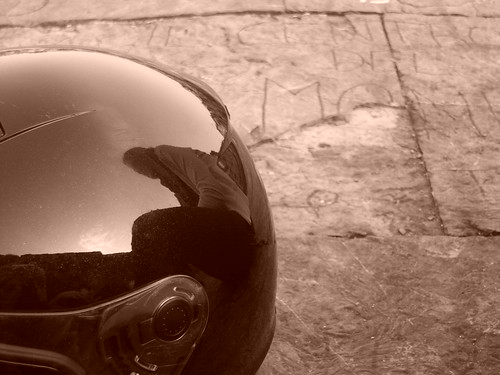helmet: (0, 31, 279, 374)
